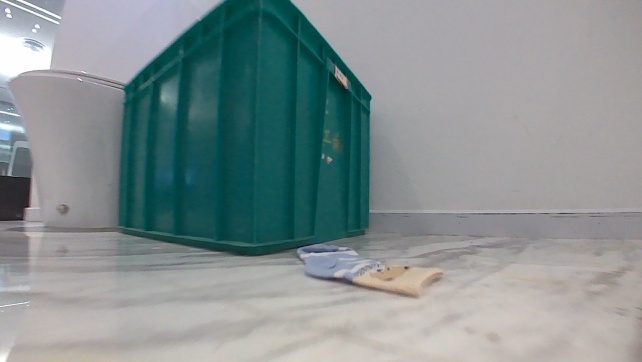socks: (295, 240, 445, 298)
toilet: (4, 65, 129, 234)
